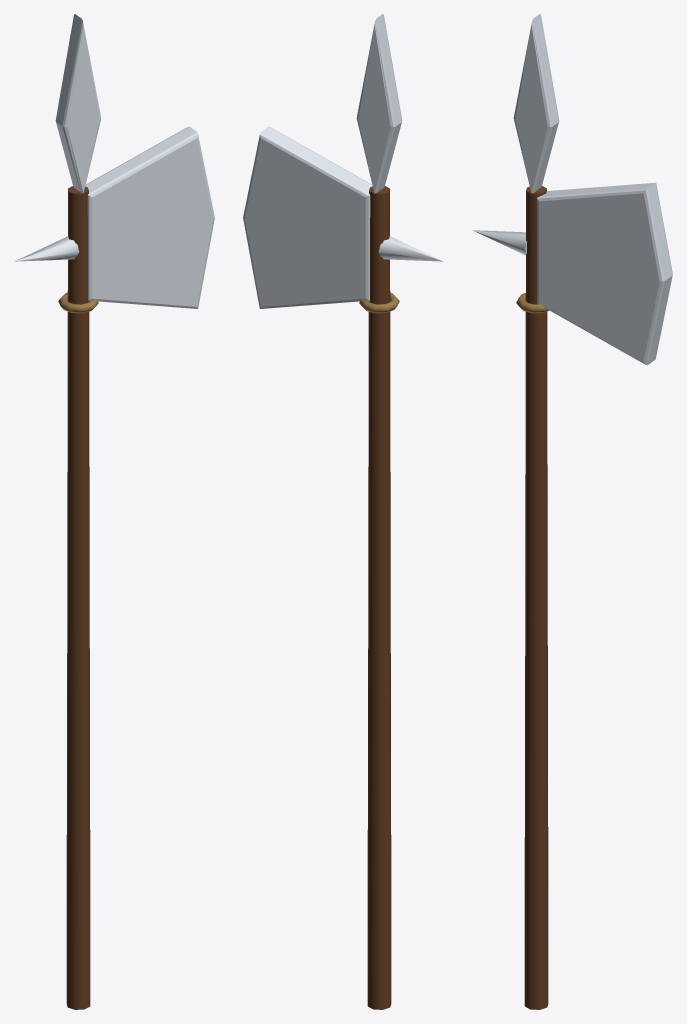
File: spear_f1_25a72840.glb
3 renders of one model, left to right at view 1: azimuth 30°, elevation 25°; view 2: azimuth 150°, elevation 25°; view 3: azimuth 330°, elevation 25°, orthographic.
Parts seen in each view (by area): view 1: m2_ow80_, m0_ow80_; view 2: m2_ow80_, m0_ow80_; view 3: m2_ow80_, m0_ow80_.
Boxes of the visible parts, x1,y1,x2,y2 form: m2_ow80_: [14, 14, 214, 308]; m0_ow80_: [66, 186, 90, 1009]; m2_ow80_: [243, 14, 443, 308]; m0_ow80_: [367, 186, 391, 1009]; m2_ow80_: [473, 14, 672, 365]; m0_ow80_: [524, 186, 548, 1009].
Size of the model in its own units: 0.7322 by 3.52 by 0.1255.
